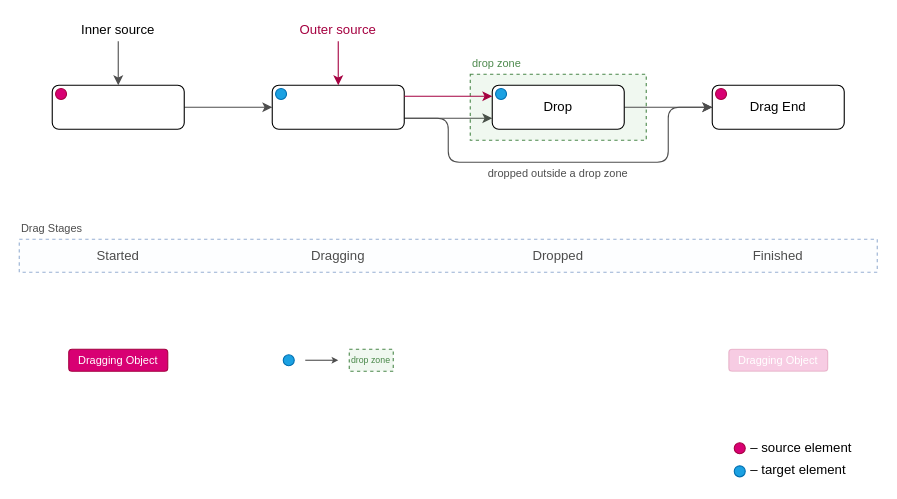
Some shapes in this 897 by 499 pixel diagram are drawn without their labels. The box of each missing label's shape, as (x1, y1, x2, y2) in pixels:
Drag Over: (271, 84, 404, 129)
Drag Start: (51, 84, 184, 129)
